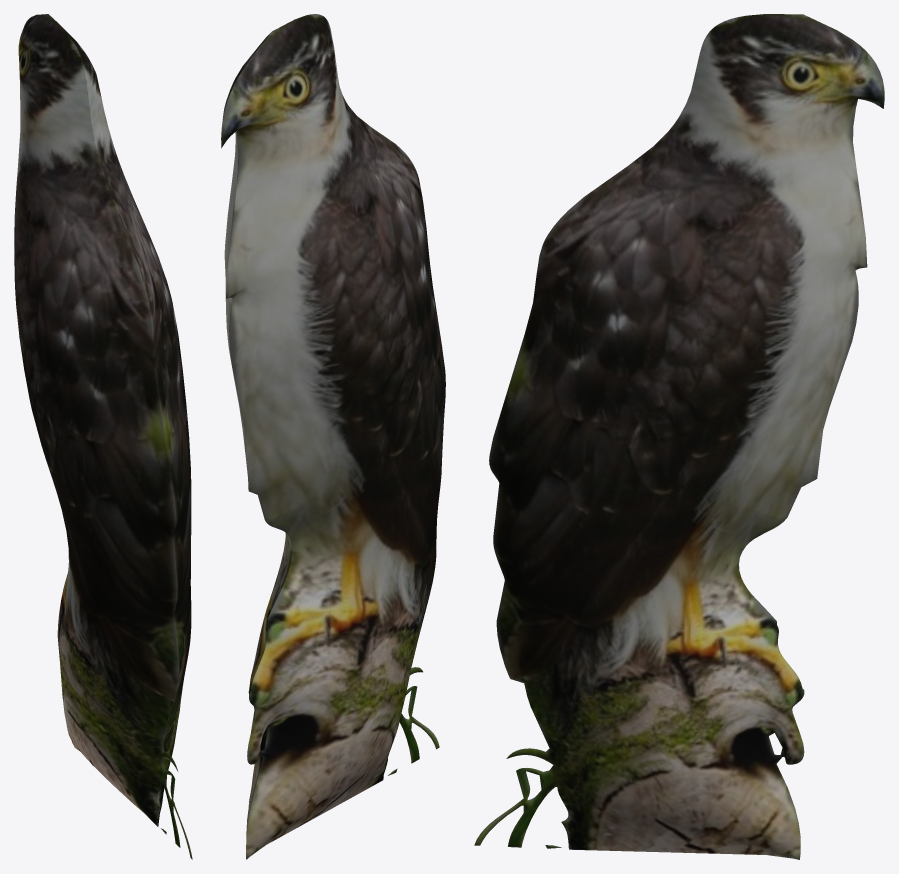
File: Accipiter-bicolor1.gltf
3 views of the same model, side by side, from view 1: azimuth 30°, elevation 25°; view 2: azimuth 150°, elevation 25°; view 3: azimuth 270°, elevation 25° (orthographic). The views are drawn at different scales.
Parts seen in each view (by area): view 1: node1; view 2: node1; view 3: node1.
Boxes of the visible parts, x1,y1,x2,y2 form: node1: (14, 14, 192, 859); node1: (221, 14, 445, 859); node1: (474, 14, 884, 859).
Bounding box in the file's own units: 0.4976 × 2.69 × 1.2.
Materials: 1 (1 with a texture image).
